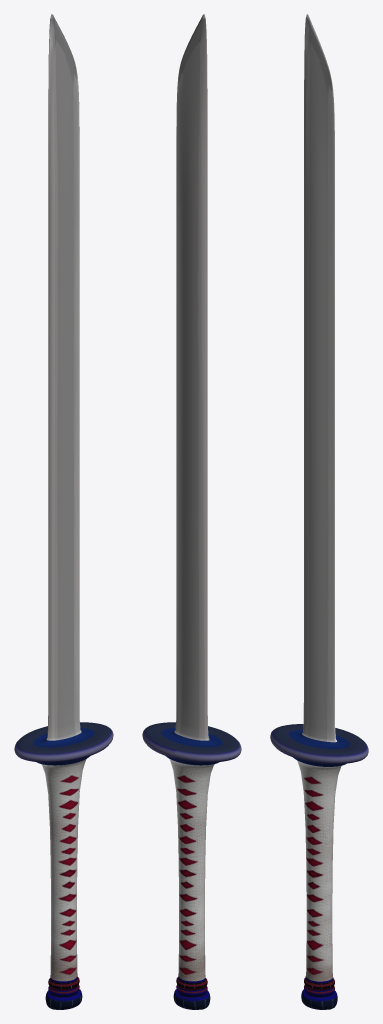
Rendered from weapon.fbx.
3 renders of one model, left to right at view 1: azimuth 30°, elevation 25°; view 2: azimuth 150°, elevation 25°; view 3: azimuth 330°, elevation 25°, orthographic.
Parts seen in each view (by area): view 1: pCube2; view 2: pCube2; view 3: pCube2.
Part boxes in pixels (<box>): pCube2: <box>14,14,113,1009</box>; pCube2: <box>142,14,241,1009</box>; pCube2: <box>270,14,368,1009</box>.
Bounding box in the file's own units: 0.1013 × 1.02 × 0.0651.
